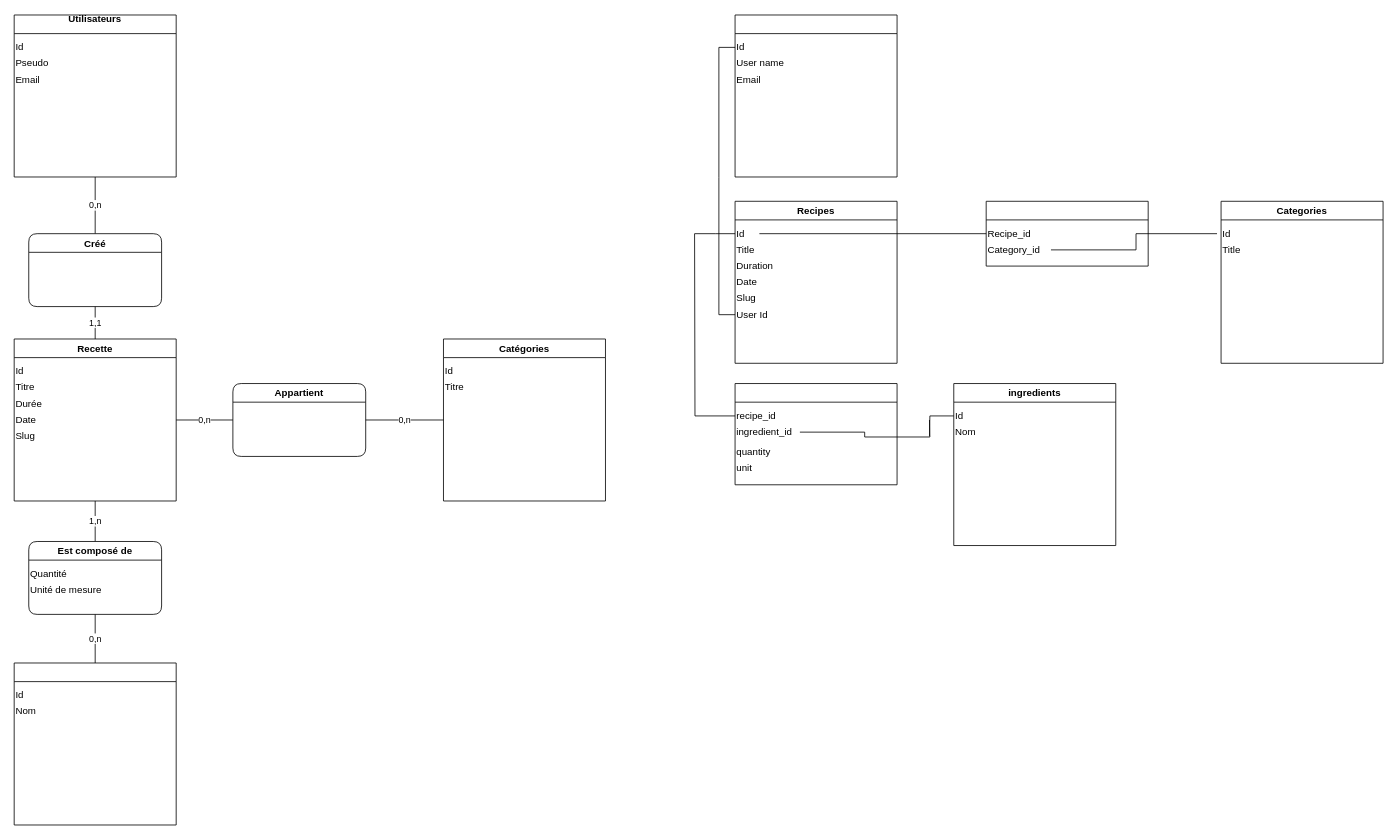
The diagram is 1397 pixels wide and 839 high, and some of its shapes have lost their labels. Each missing label, with the box of its shape:
categories_recipes: (985, 200, 1148, 266)
ingredients_recipes: (734, 383, 897, 485)
Ingrédients: (13, 662, 176, 825)
Users: (734, 14, 897, 177)
